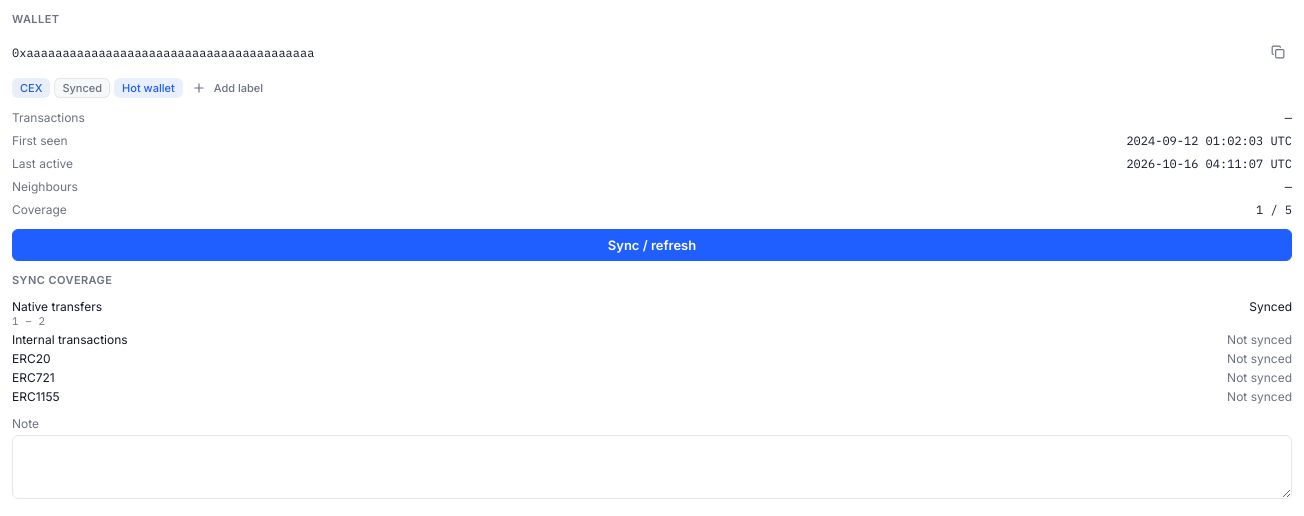
Test: copy writes the full address and shows a check
Click the button named "Copy": (1278, 52) [1264,38,1292,66]
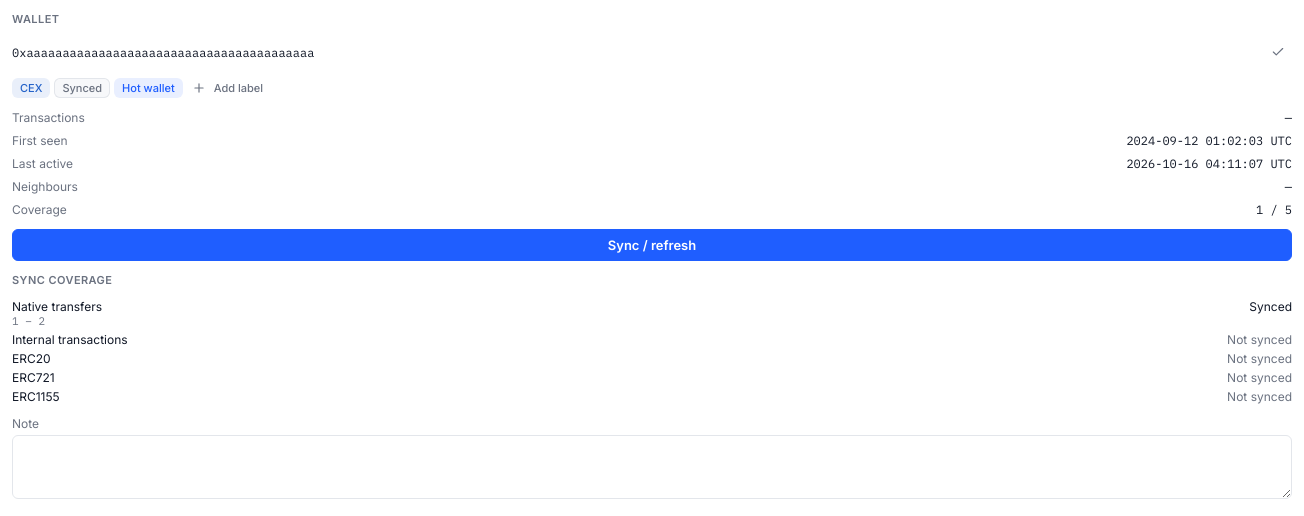
Expected: the button named "Copied" is shown, [1264,38,1292,66]
